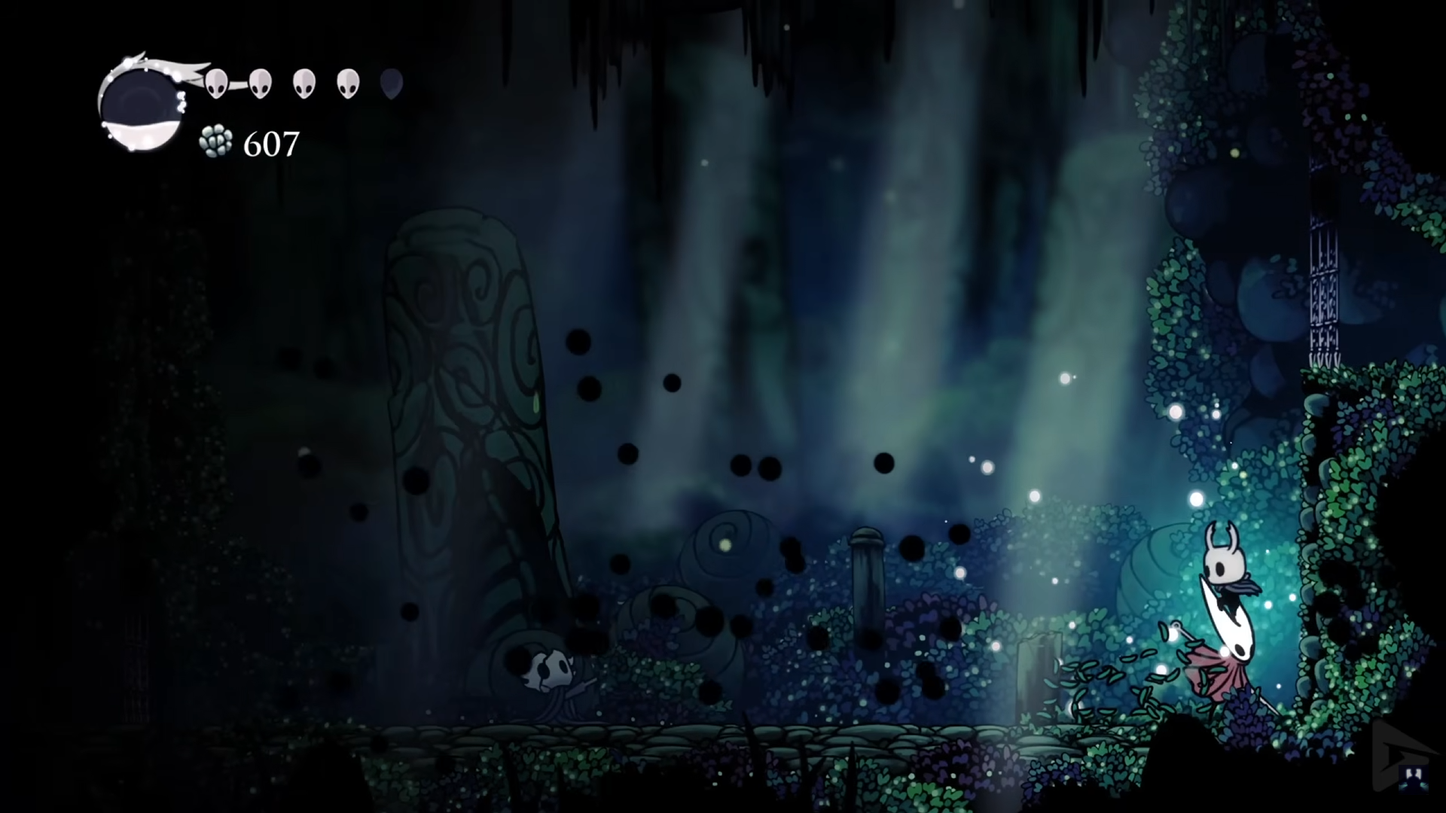HK: (1196, 519, 1256, 617)
